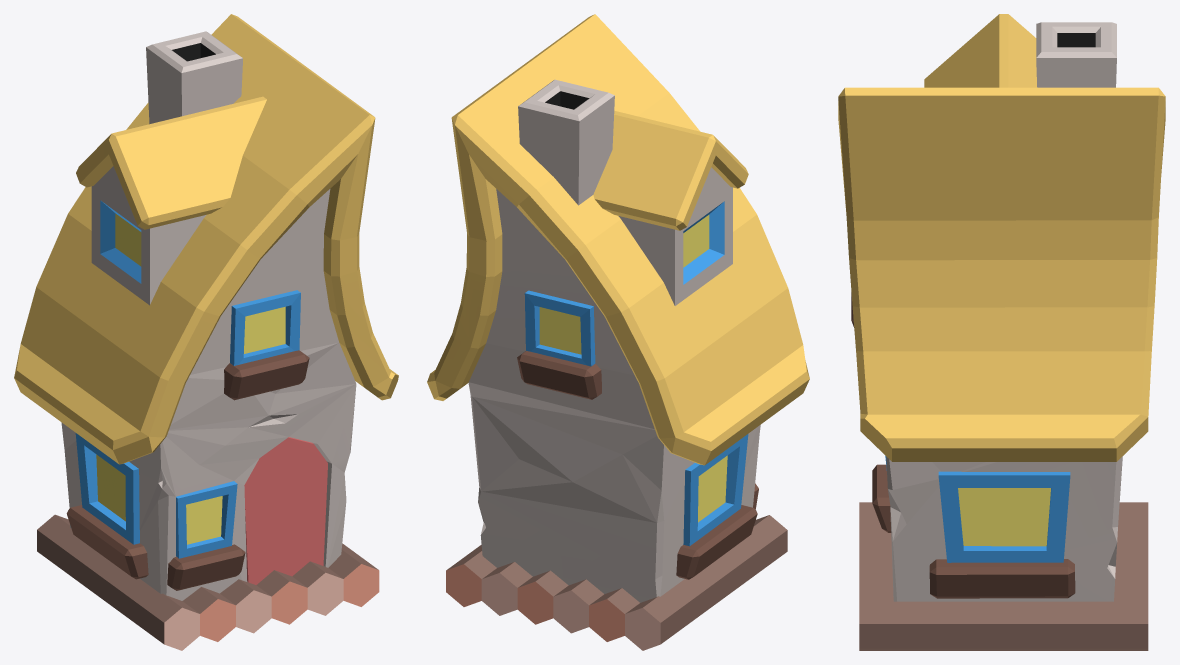
The model's file is building_005.fbx.
The picture shows the model from 3 angles, left to right: view 1: azimuth 30°, elevation 25°; view 2: azimuth 150°, elevation 25°; view 3: azimuth 270°, elevation 25°; orthographic projection. The views are drawn at different scales.
Parts seen in each view (by area): view 1: building.005; view 2: building.005; view 3: building.005.
Part boxes in pixels (x1,y1,x2,y2): building.005: (14,14,398,650); building.005: (427,14,809,650); building.005: (838,14,1165,650).
Size of the model in its own units: 664 by 1124 by 581.
Materials: 1 (1 with a texture image).
